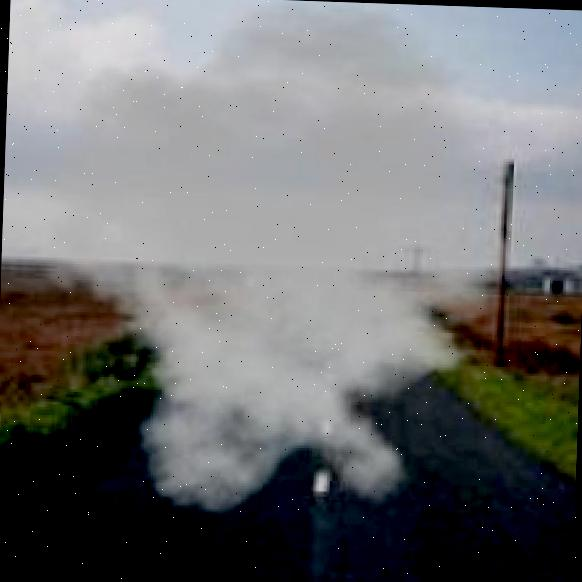smoke: (1, 0, 569, 528)
